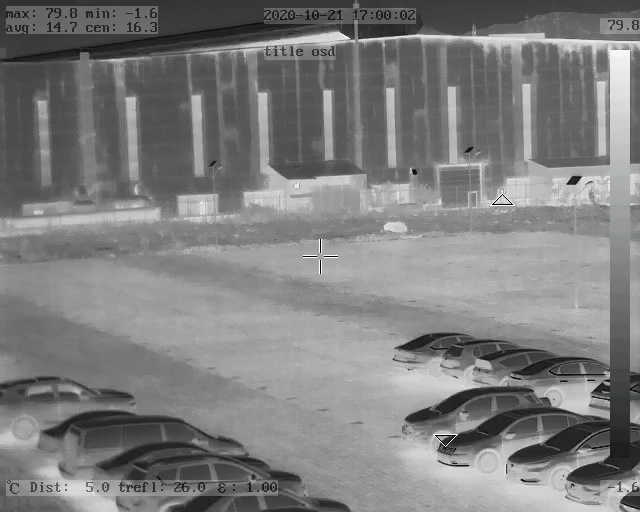vehicle: (60, 414, 248, 474), (419, 401, 559, 462), (9, 377, 136, 440), (501, 419, 618, 485), (135, 455, 304, 498), (161, 485, 361, 512), (565, 443, 638, 507), (509, 357, 610, 399), (393, 330, 450, 371), (470, 347, 518, 385), (441, 342, 477, 379)
